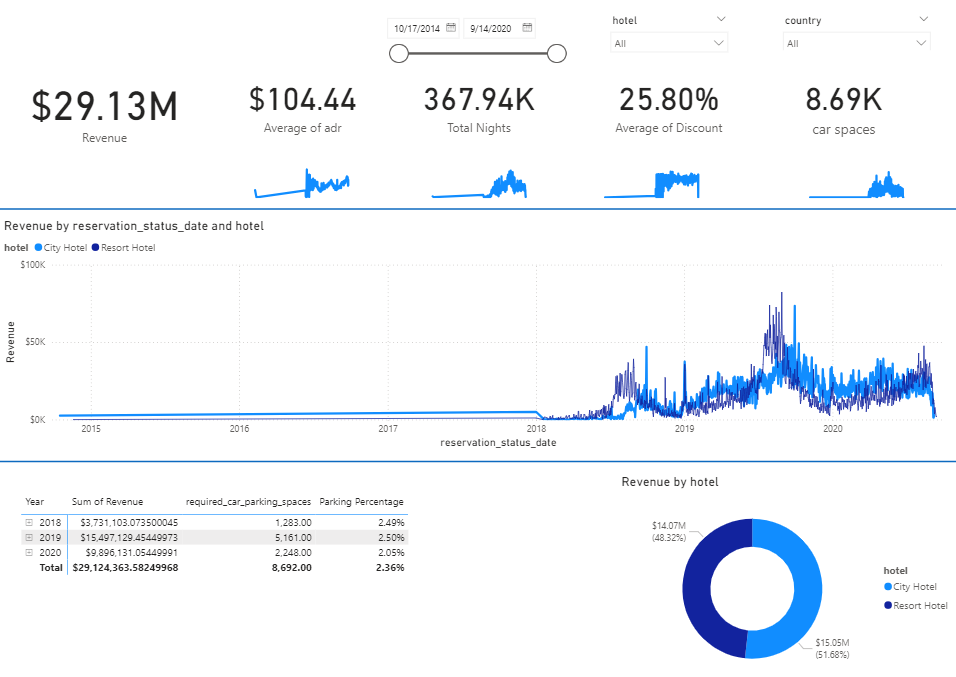

The dashboard page shown, as its layout file describes it:
{"tool":"powerbi","page":{"name":"Page 1","canvas":[1280,920],"ordinal":0},"visuals":[{"type":"shape","box":[0,140,1280,280],"z":0},{"type":"shape","box":[0,477.1,1280,280],"z":1000},{"type":"card","fields":{"Values":["Sum(Query1.Revenue)"]},"box":[1.4,35.7,278.6,222.9],"z":2000},{"type":"card","fields":{"Values":["Avg(Query1.adr)"]},"box":[280,50,250,180],"z":3000},{"type":"card","fields":{"Values":["Query1.Total Nights"]},"box":[511.4,50,257.1,180],"z":4000},{"type":"card","fields":{"Values":["Avg(Query1.Discount)"]},"box":[768.6,50,250,180],"z":5000},{"type":"lineChart","fields":{"Y":["Sum(Query1.Revenue)"],"Category":["Query1.reservation_status_date"],"Series":["Query1.hotel"]},"box":[1.4,291.4,1267.1,312.9],"z":6000},{"type":"slicer","fields":{"Values":["Query1.country"]},"box":[1035.7,14.3,217.1,114.3],"z":7000},{"type":"slicer","fields":{"Values":["Query1.hotel"]},"box":[805.7,14.3,177.1,71.4],"z":8000},{"type":"lineChart","fields":{"Category":["Query1.reservation_status_date"],"Y":["Avg(Query1.adr)"]},"box":[327.1,204.3,154.3,65.7],"z":9000},{"type":"lineChart","fields":{"Category":["Query1.reservation_status_date"],"Y":["Query1.Total Nights"]},"box":[562.9,204.3,154.3,65.7],"z":10000},{"type":"lineChart","fields":{"Category":["Query1.reservation_status_date"],"Y":["Avg(Query1.Discount)"]},"box":[792.9,204.3,154.3,65.7],"z":11000},{"type":"card","fields":{"Values":["Sum(Query1.required_car_parking_spaces)"]},"box":[1001.7,68.3,250,145],"z":12000},{"type":"lineChart","fields":{"Category":["Query1.reservation_status_date"],"Y":["Sum(Query1.required_car_parking_spaces)"]},"box":[1067.1,204.3,154.3,65.7],"z":13000},{"type":"donutChart","fields":{"Category":["Query1.hotel"],"Y":["Sum(Query1.Revenue)"]},"box":[825.7,632.9,454.3,287.1],"z":14000},{"type":"pivotTable","fields":{"Rows":["Query1.reservation_status_date.Variation.Date Hierarchy.Year","Query1.hotel"],"Values":["Sum(Query1.Revenue)","Sum(Query1.required_car_parking_spaces)","Query1.Parking Percentage"]},"box":[24.3,652.9,638.6,144.3],"z":15000},{"type":"slicer","fields":{"Values":["Query1.reservation_status_date"]},"box":[504.3,14.3,260,71.4],"z":16000}]}

Visuals, with their boxes in screenshot pixels (x1, y1, x2, y2), scaled from the page's 1280x920 canvas onto the 956x677 screenshot:
shape: l=0, t=103, r=955, b=309
shape: l=0, t=351, r=955, b=557
card - Sum(Query1.Revenue): l=1, t=26, r=209, b=190
card - Avg(Query1.adr): l=209, t=37, r=396, b=169
card - Query1.Total Nights: l=382, t=37, r=574, b=169
card - Avg(Query1.Discount): l=574, t=37, r=761, b=169
lineChart - Sum(Query1.Revenue) x Query1.reservation_status_date: l=1, t=214, r=947, b=445
slicer - Query1.country: l=774, t=11, r=936, b=95
slicer - Query1.hotel: l=602, t=11, r=734, b=63
lineChart - Query1.reservation_status_date x Avg(Query1.adr): l=244, t=150, r=360, b=199
lineChart - Query1.reservation_status_date x Query1.Total Nights: l=420, t=150, r=536, b=199
lineChart - Query1.reservation_status_date x Avg(Query1.Discount): l=592, t=150, r=707, b=199
card - Sum(Query1.required_car_parking_spaces): l=748, t=50, r=935, b=157
lineChart - Query1.reservation_status_date x Sum(Query1.required_car_parking_spaces): l=797, t=150, r=912, b=199
donutChart - Query1.hotel x Sum(Query1.Revenue): l=617, t=466, r=955, b=676
pivotTable - Query1.reservation_status_date.Variation.Date Hierarchy.Year x Query1.hotel: l=18, t=480, r=495, b=587
slicer - Query1.reservation_status_date: l=377, t=11, r=571, b=63
